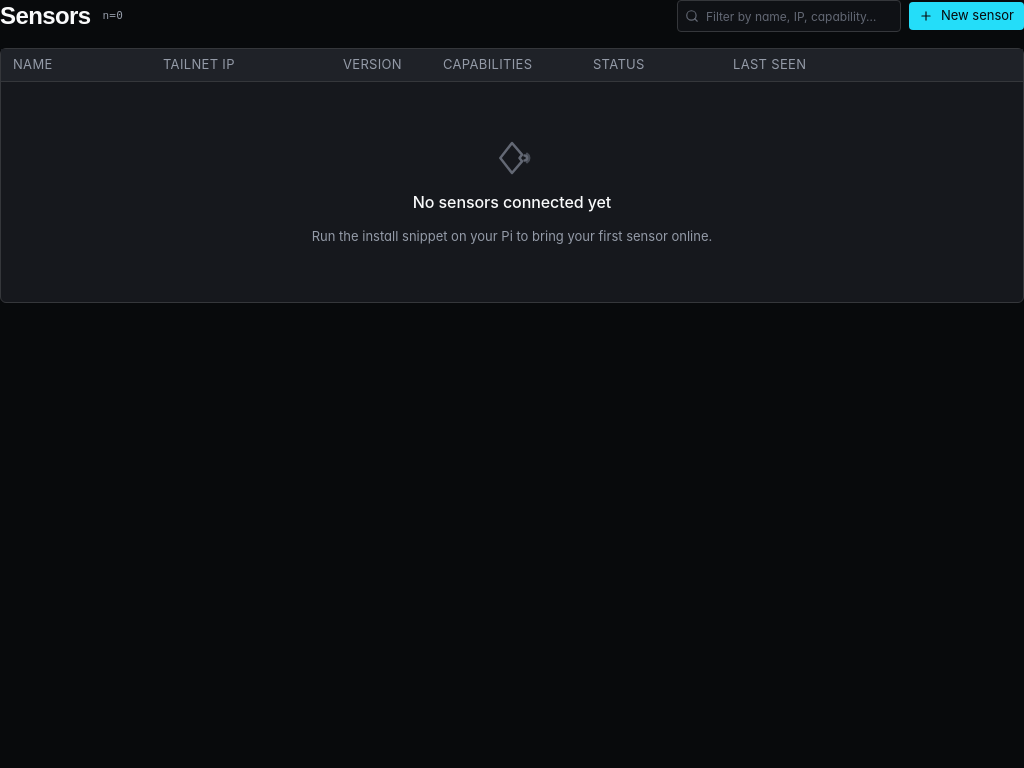
SensorsView › opens the register drawer when the New sensor button is clicked
Click the button with test id "sensors-new".
click(966, 16)  # box [909,2,1023,30]
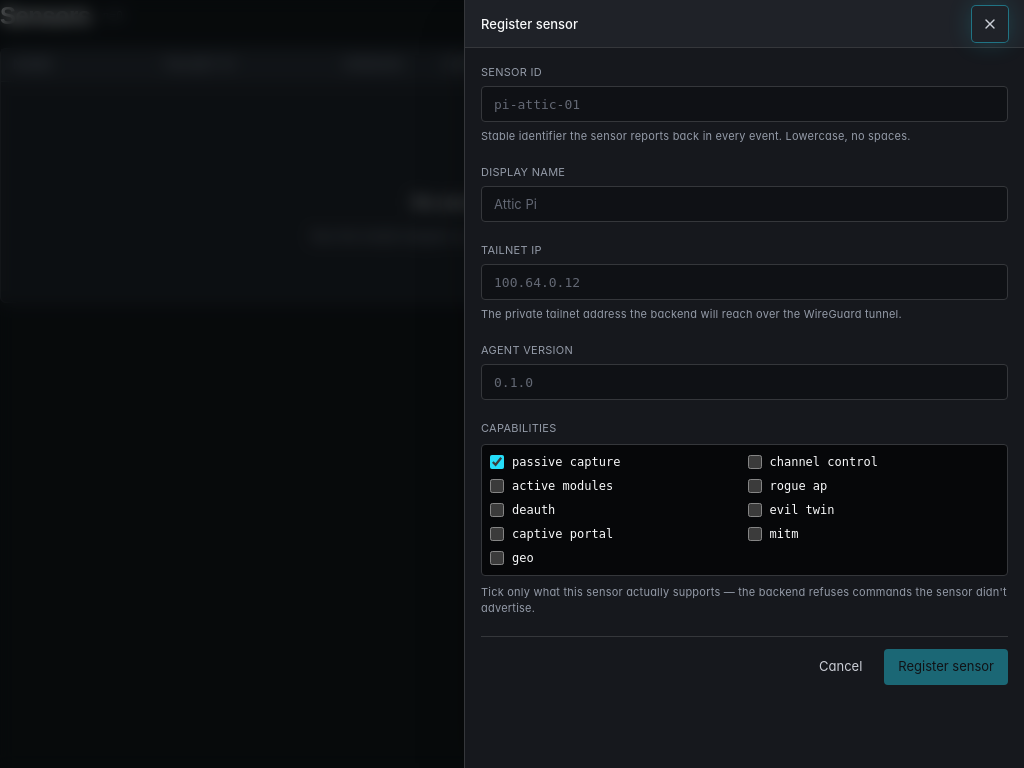
expect the form with test id "register-sensor-form" is shown: met, box [481,64,1008,685]
